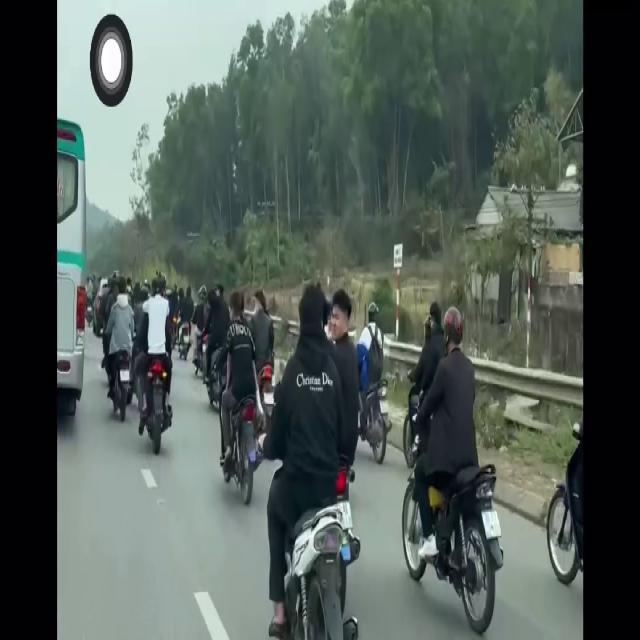helmet: (443, 293, 466, 355), (366, 296, 380, 339)
no_helmet: (294, 269, 330, 346), (334, 282, 354, 358), (230, 284, 248, 328)
